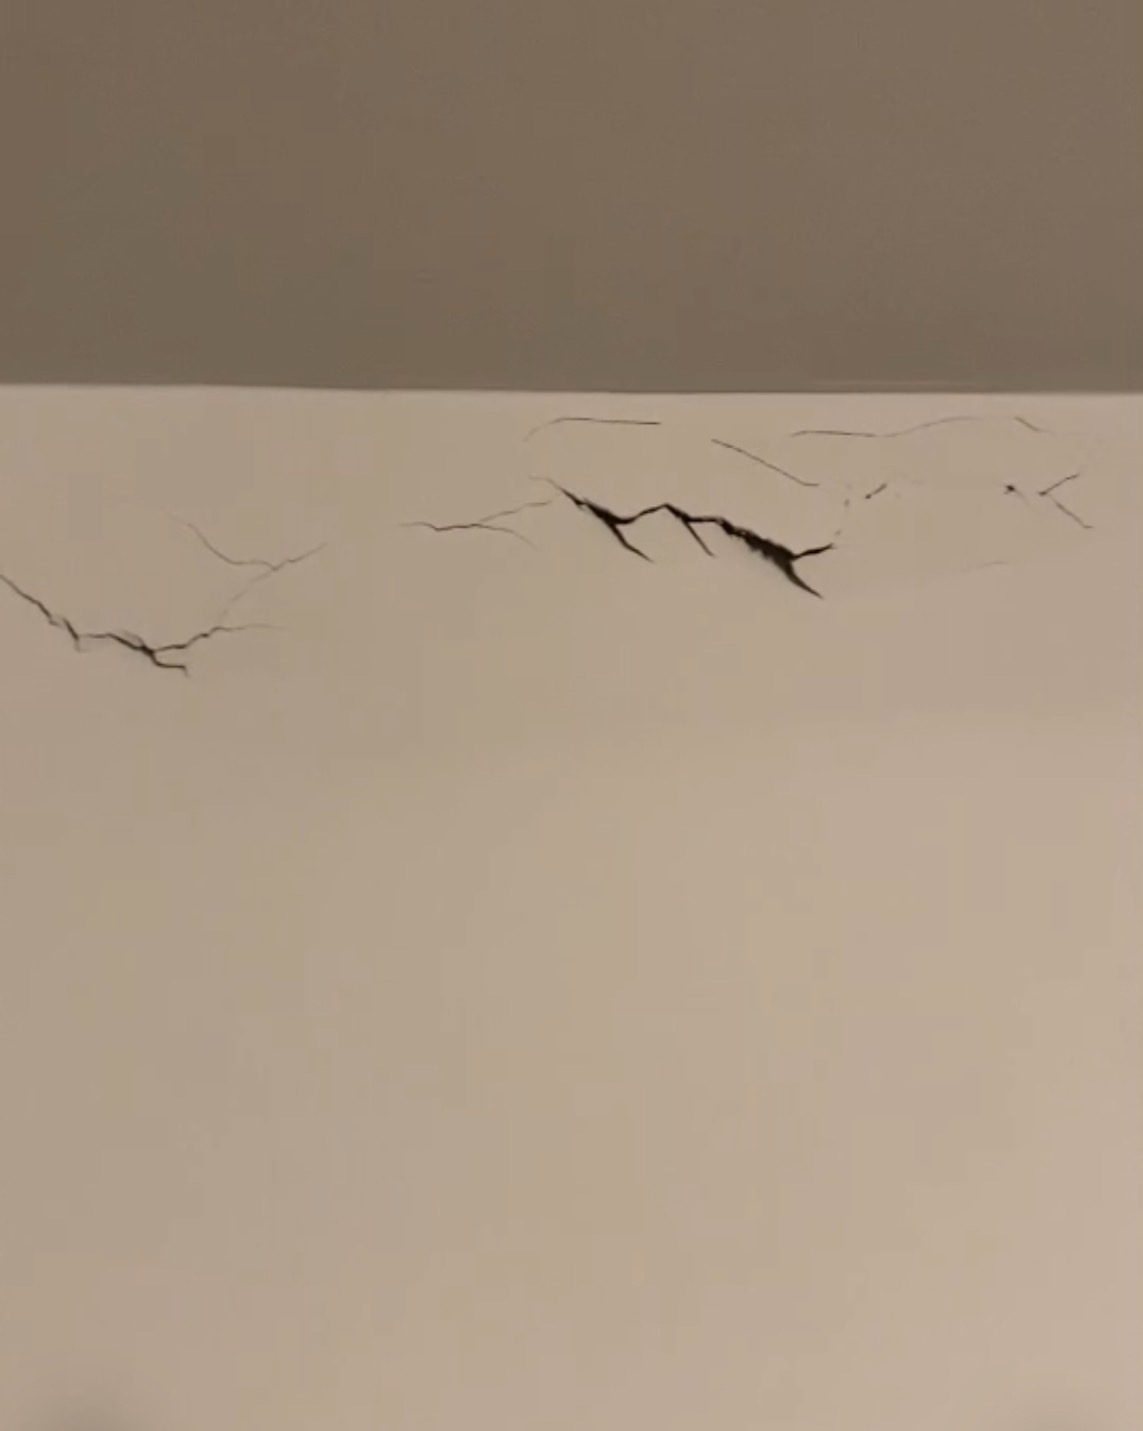Medium: (36, 381, 1096, 720)
